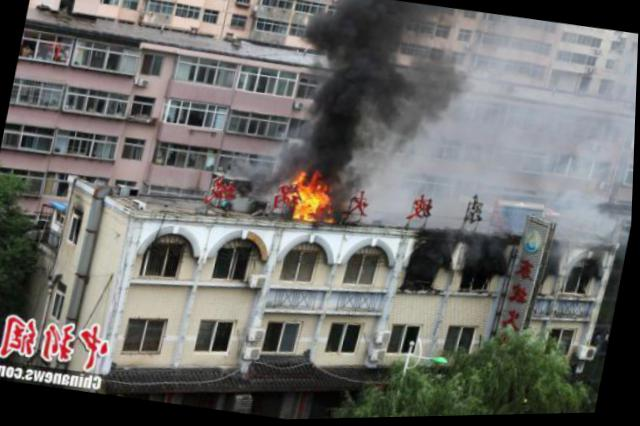fire: (295, 184, 335, 225)
